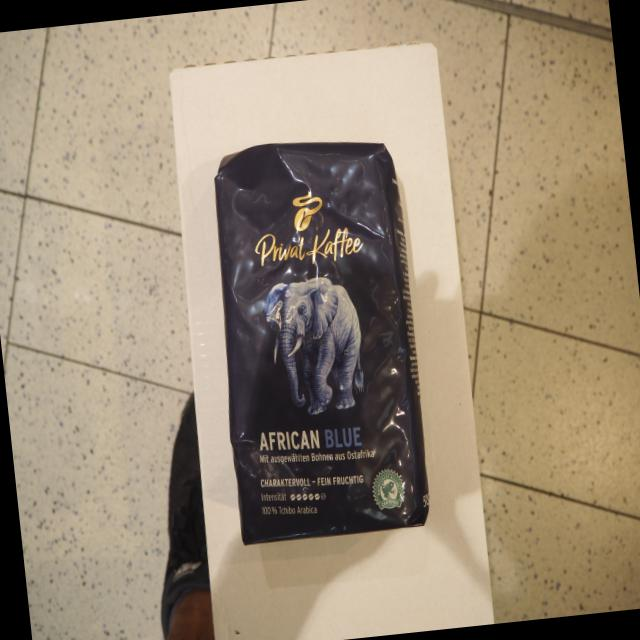AB Bohne: (195, 125, 440, 550)
